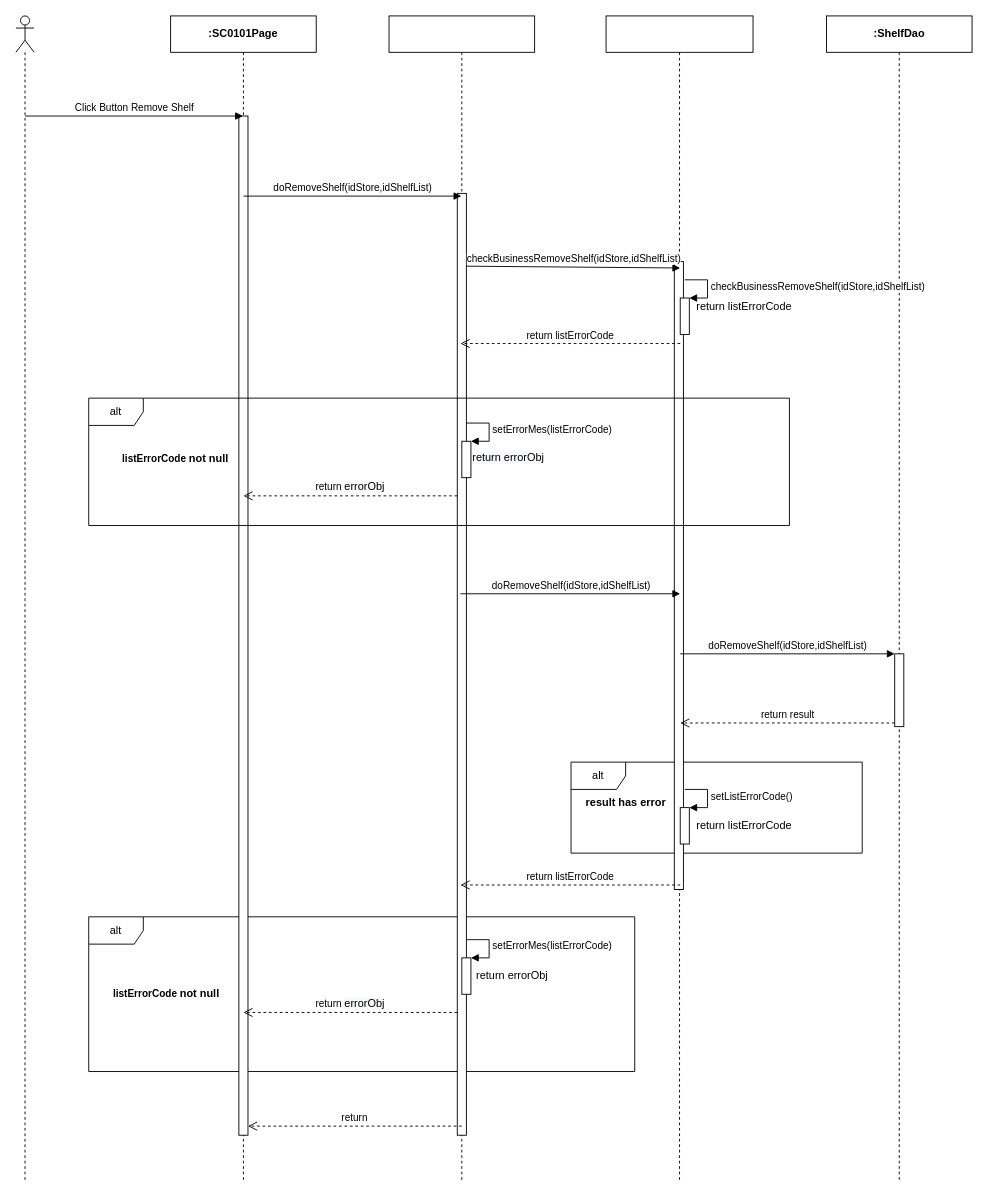
This 988x1197 diagram has some shape labels left out. The box of each missing label's shape, as (x1, y1, x2, y2) in pixels:
: SC0101 Service: (605, 15, 753, 1181)
:SC0101Controller: (388, 15, 535, 1181)
